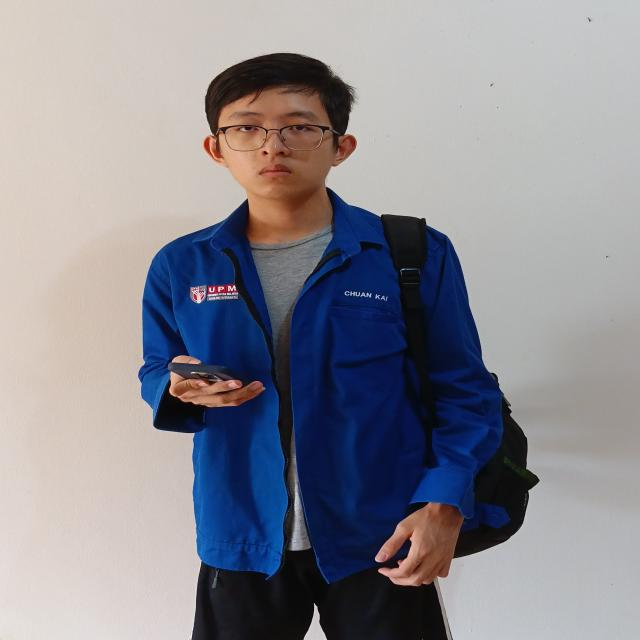person_with_labcoat: (139, 53, 538, 640)
